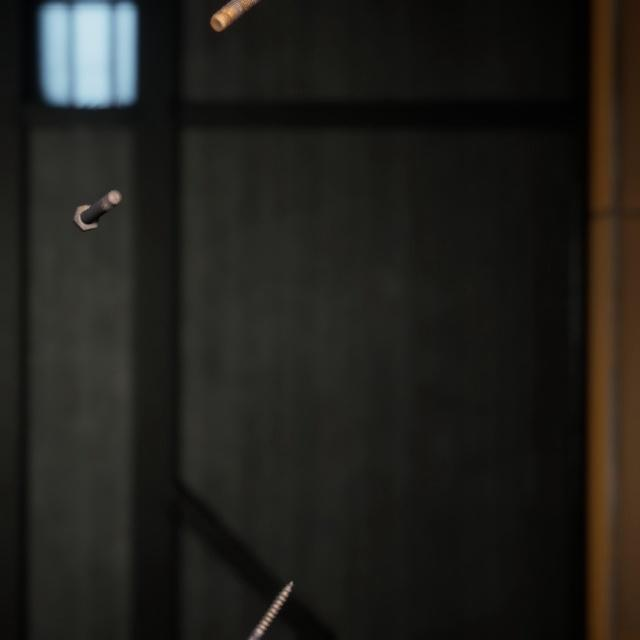bolt: (221, 552, 298, 640), (67, 170, 126, 221), (205, 0, 258, 29), (271, 617, 304, 640)
